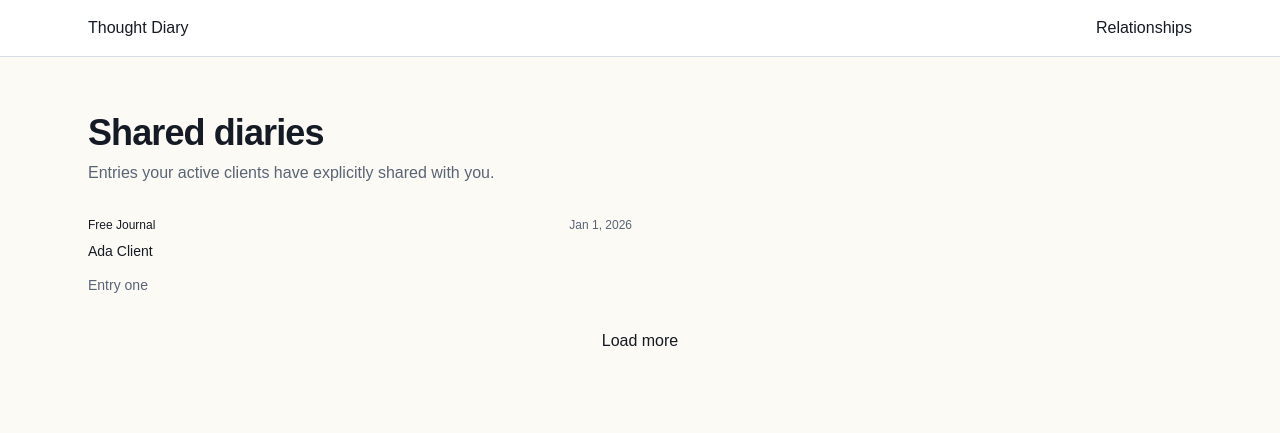
Test: counselor shared diaries › preserves entries when loading another page fails and retries
The width and height of the screenshot is (1280, 433).
Expected: the text "Ada Client" is shown, x1=88 y1=243 x2=153 y2=259
Click the button "Load more". click: (640, 341)
box: x1=602 y1=329 x2=678 y2=353
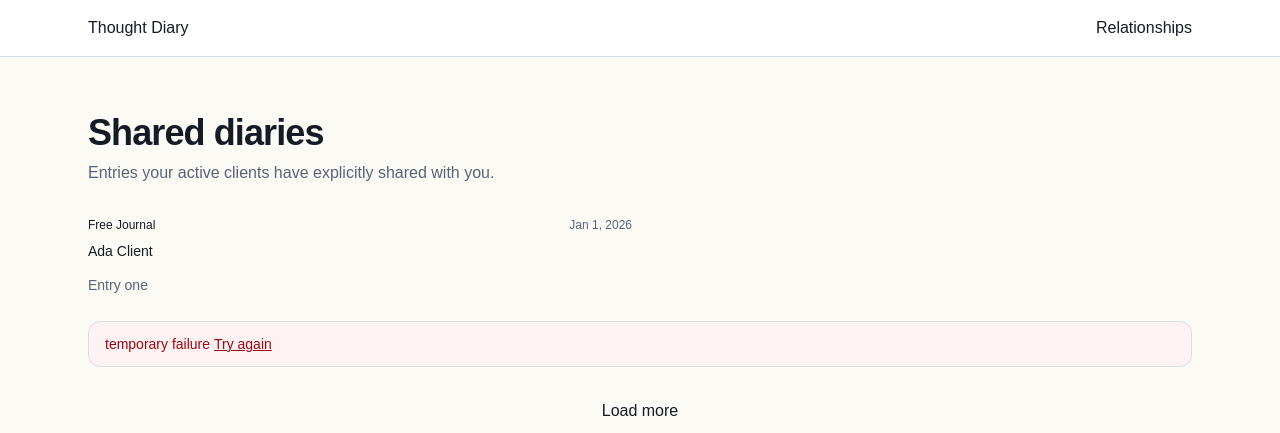
Expected: the text "Entry one" is shown, x1=88 y1=277 x2=148 y2=293
Expected: the message shows "temporary failure", x1=105 y1=336 x2=210 y2=352
Click the button "Try again". click: (243, 344)
box: x1=214 y1=334 x2=272 y2=354
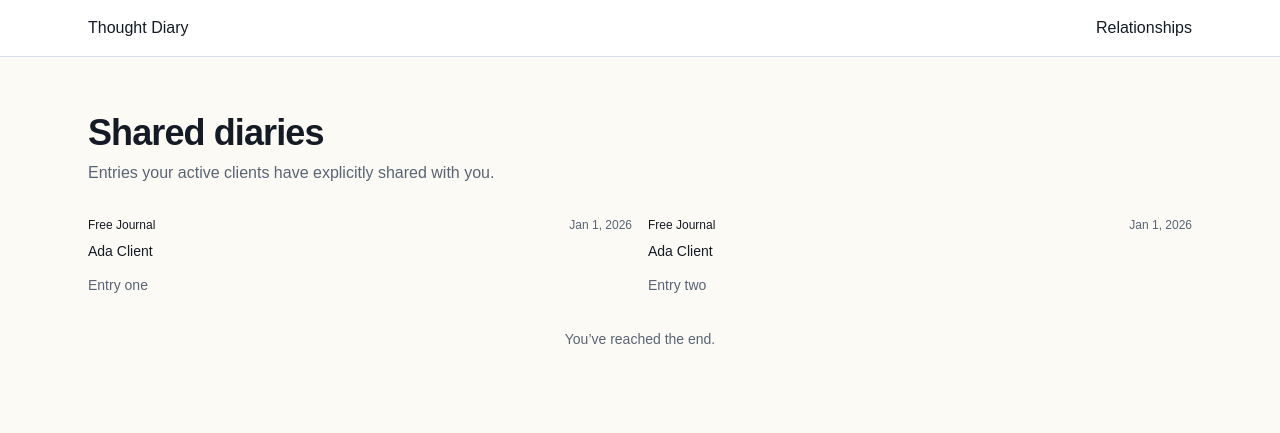
Expected: the text "Entry two" is shown, x1=648 y1=277 x2=706 y2=293
